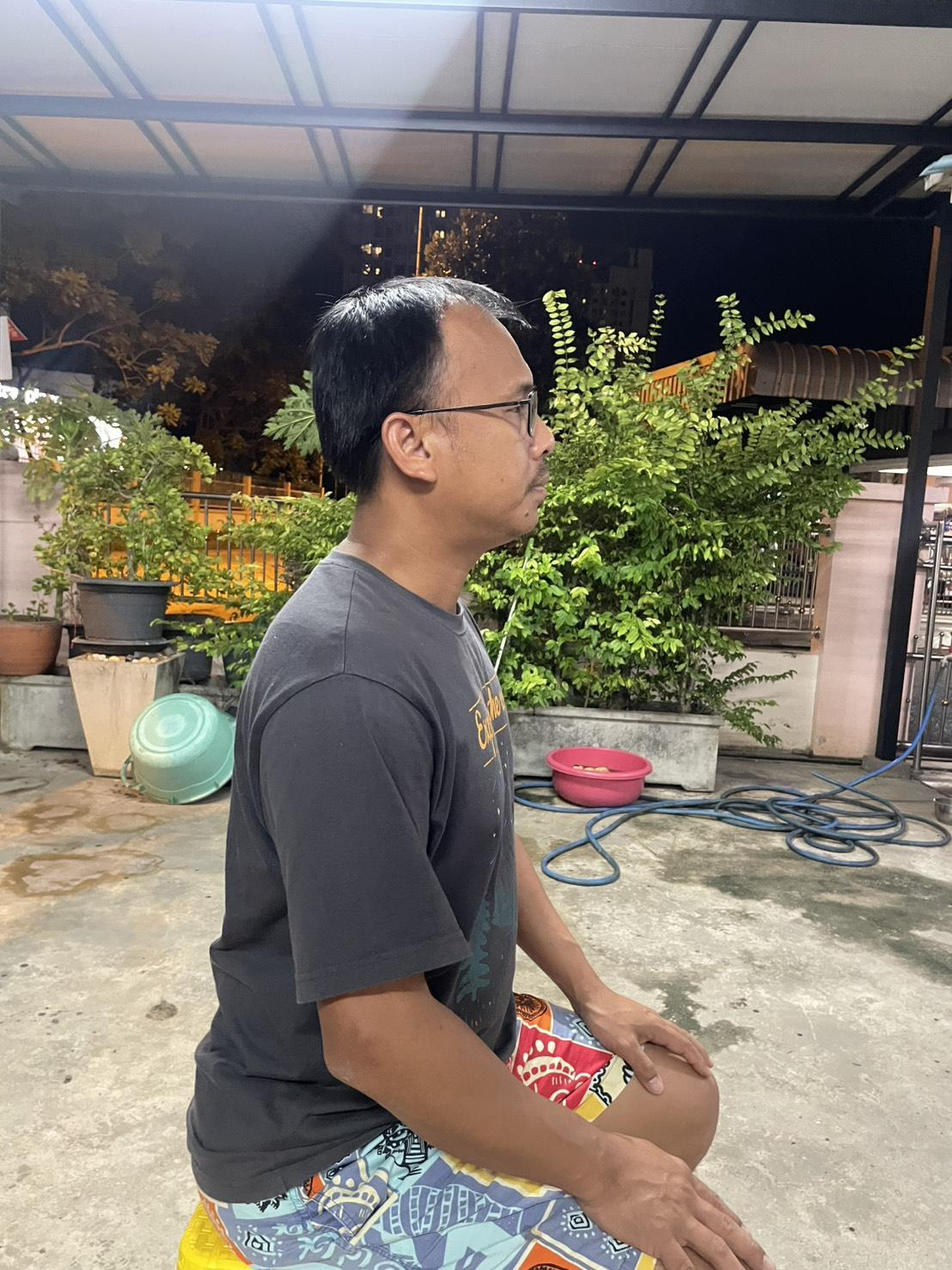GoodPosture: (187, 277, 773, 1269)
